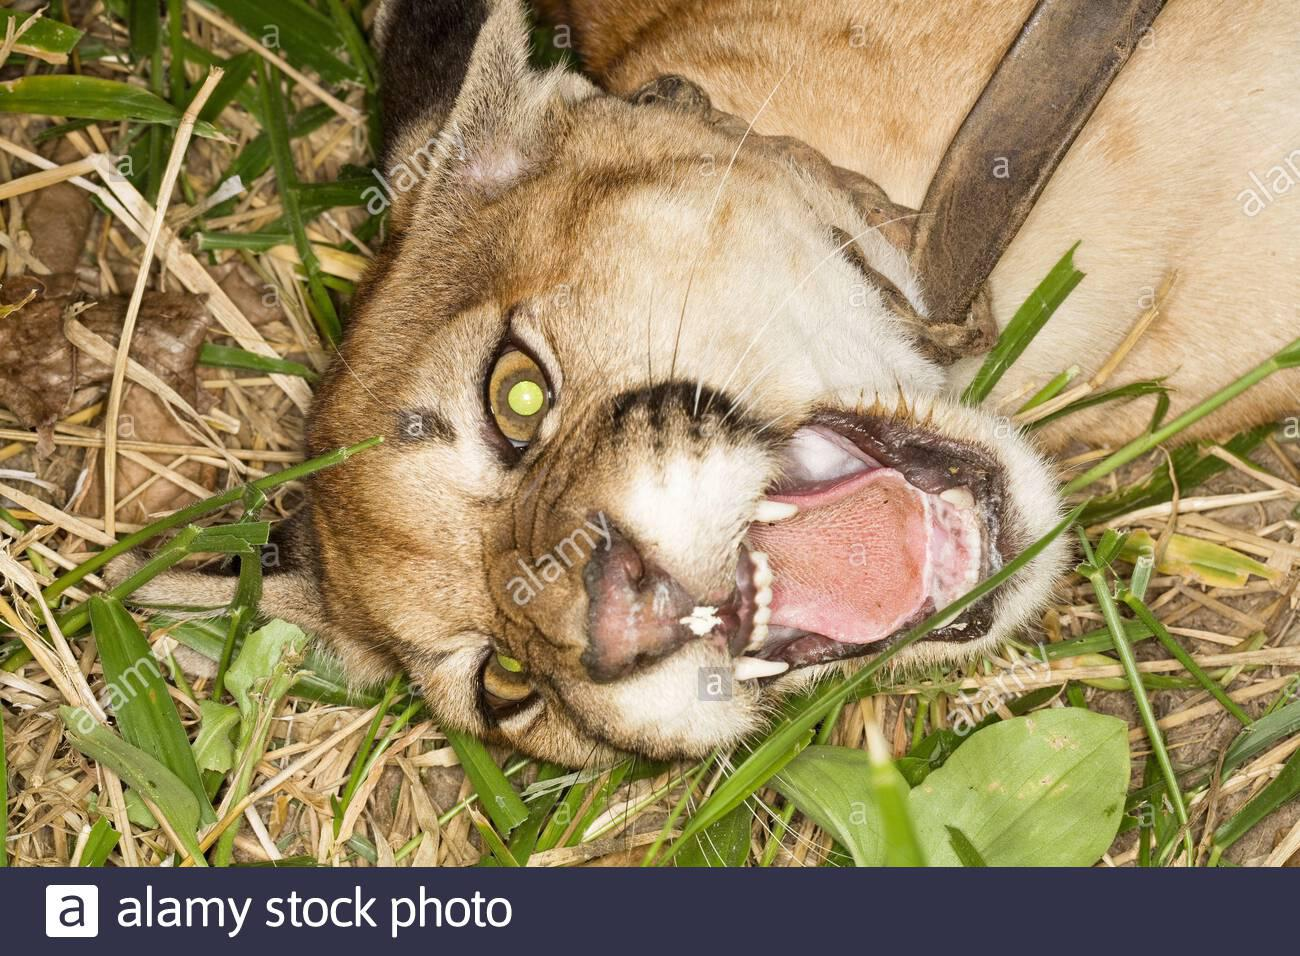OncaParda: (278, 11, 1198, 752)
